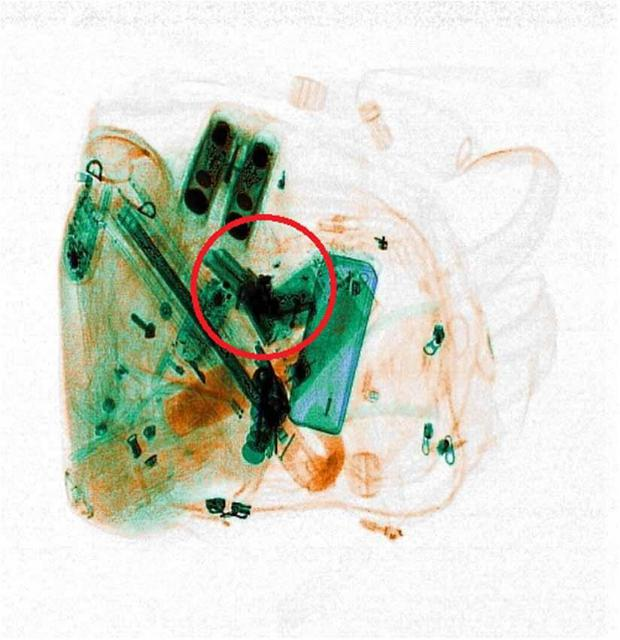Gun: (192, 242, 316, 348)
